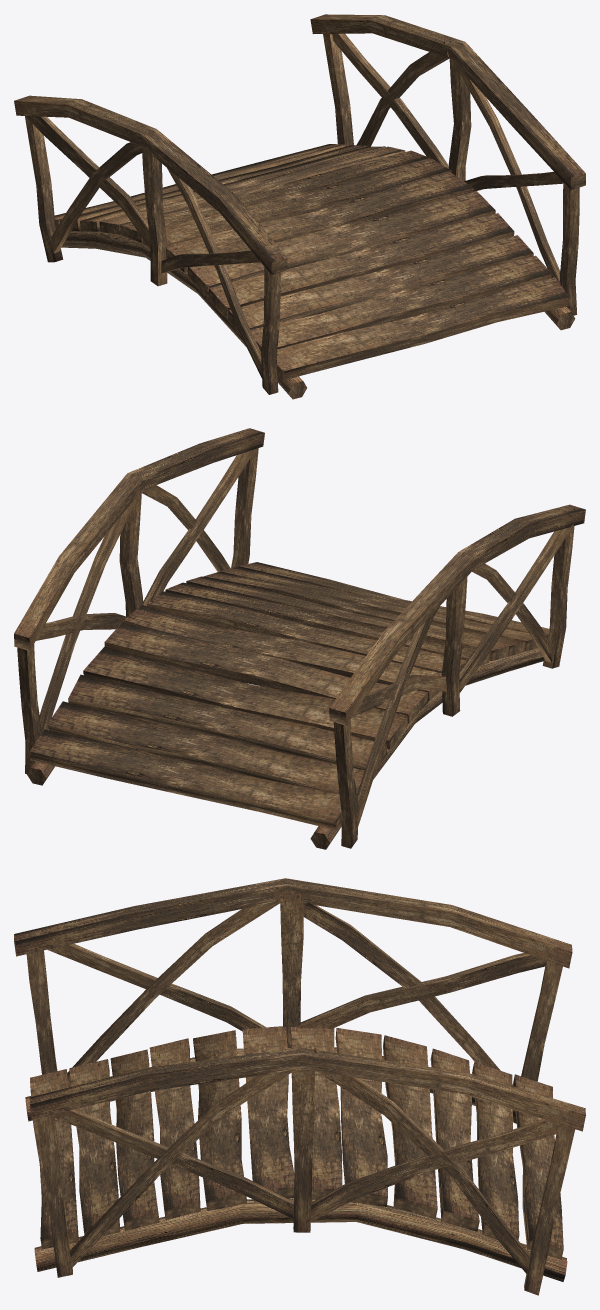
File: small_bridge.fbx
The picture shows the model from 3 angles, top to bottom: view 1: azimuth 30°, elevation 25°; view 2: azimuth 150°, elevation 25°; view 3: azimuth 270°, elevation 25°; orthographic projection. The views are drawn at different scales.
Visible parts, largest first — view 1: bridge; view 2: bridge; view 3: bridge.
Part boxes in pixels (bbox=[...]): bridge: bbox=[14, 14, 585, 399]; bridge: bbox=[14, 428, 585, 849]; bridge: bbox=[14, 878, 585, 1295].
Bounding box in the file's own units: 407 × 250 × 529.
1 material, 1 textured.
